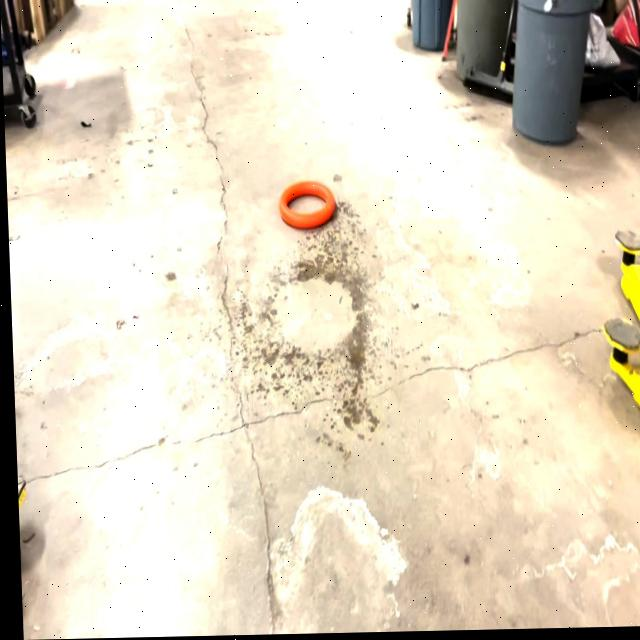note: (275, 178, 336, 235)
